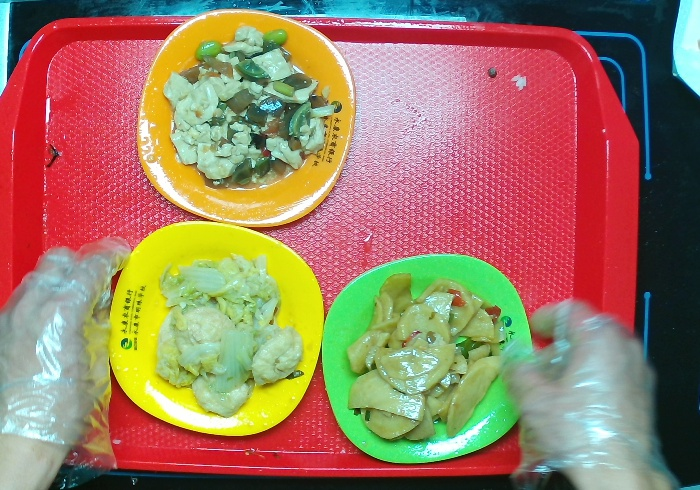YKMZ-Huang_Se_Fang_Die: (107, 217, 325, 440)
YKMZ-Ju_Se_Fang_Die: (135, 8, 357, 230)
YKMZ-Lv_Se_Fang_Die: (323, 250, 535, 467)
